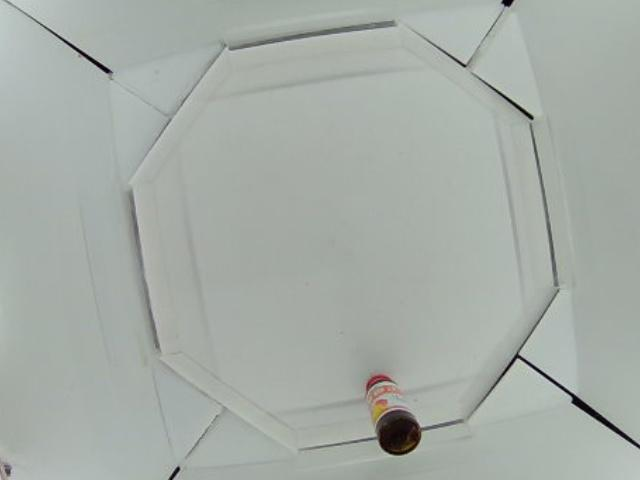Medicine: (365, 375, 423, 456)
